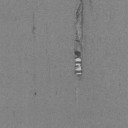slag inclusion: (74, 0, 86, 80), (32, 26, 36, 34), (89, 0, 92, 6)
